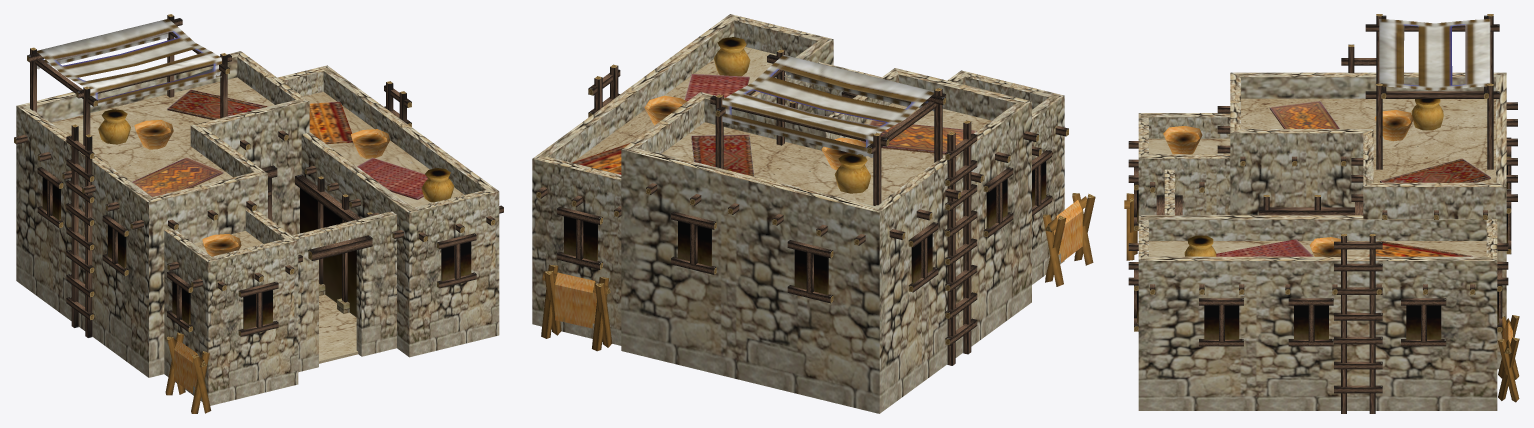
File: house_1.dae
The picture shows the model from 3 angles, left to right: view 1: azimuth 30°, elevation 25°; view 2: azimuth 150°, elevation 25°; view 3: azimuth 270°, elevation 25°; orthographic projection. The views are drawn at different scales.
Visible parts, largest first — view 1: house_1; view 2: house_1; view 3: house_1.
Part boxes in pixels (bbox=[...]): house_1: bbox=[14, 14, 503, 413]; house_1: bbox=[532, 14, 1095, 413]; house_1: bbox=[1124, 14, 1519, 413].
Size of the model in its own units: 12.7 by 12.74 by 8.74.
